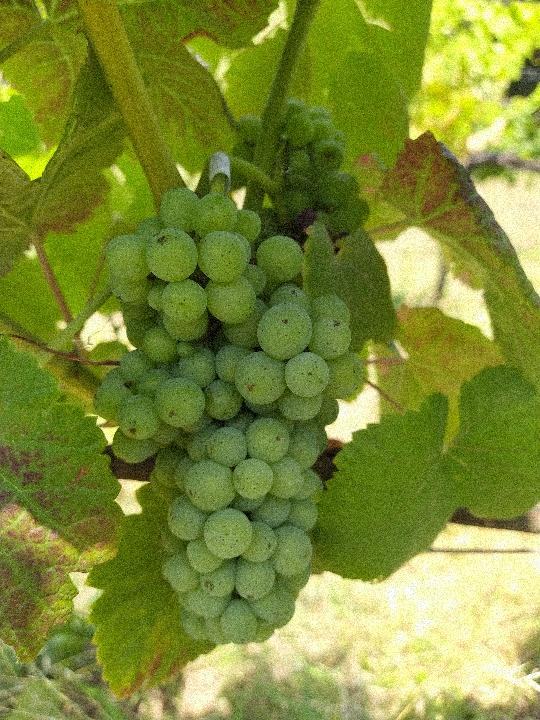grape: (88, 186, 350, 647)
